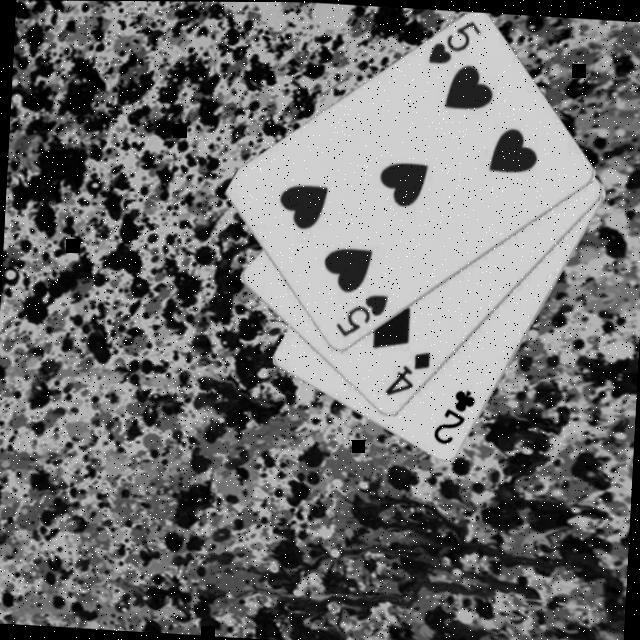2C: (429, 385, 478, 449)
4D: (381, 347, 434, 402)
5H: (423, 15, 484, 70), (330, 289, 391, 342)
